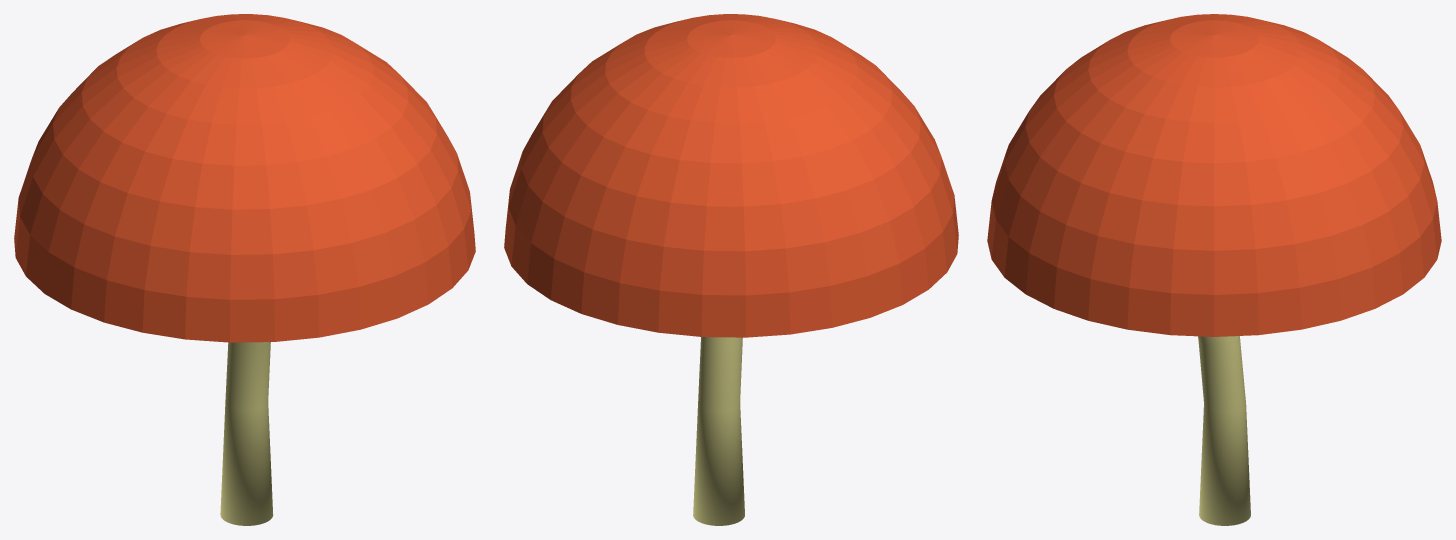
Rendered from dumb_mushroom.dae.
The picture shows the model from 3 angles, left to right: view 1: azimuth 30°, elevation 25°; view 2: azimuth 150°, elevation 25°; view 3: azimuth 270°, elevation 25°; orthographic projection.
Visible parts, largest first — view 1: Sphere, Trunk; view 2: Sphere, Trunk; view 3: Sphere, Trunk.
Boxes of the visible parts, x1,y1,x2,y2 form: Sphere: (14, 14, 475, 342); Trunk: (220, 342, 273, 525); Sphere: (504, 14, 958, 337); Trunk: (693, 337, 744, 525); Sphere: (987, 14, 1441, 336); Trunk: (1198, 336, 1250, 525).
Bounding box in the file's own units: 5.46 × 5.46 × 6.32.
